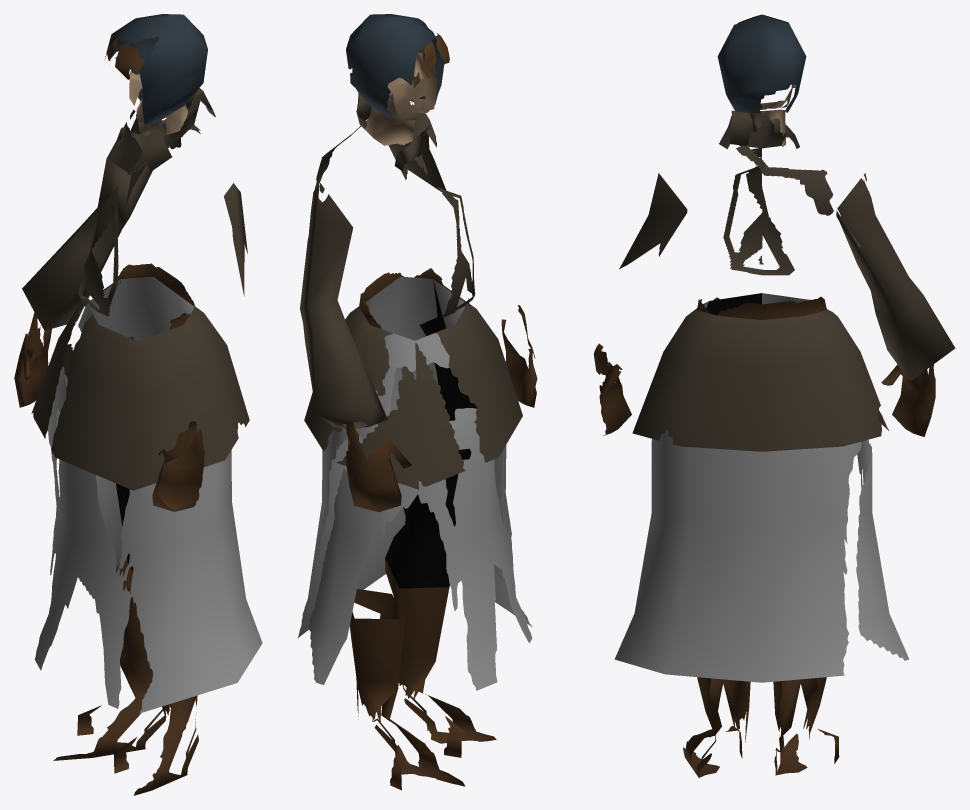
The model's file is Woman2.fbx.
The picture shows the model from 3 angles, left to right: view 1: azimuth 30°, elevation 25°; view 2: azimuth 150°, elevation 25°; view 3: azimuth 270°, elevation 25°; orthographic projection. The views are drawn at different scales.
Visible parts, largest first — view 1: CH-W-SIMP.001; view 2: CH-W-SIMP.001; view 3: CH-W-SIMP.001.
Boxes of the visible parts, x1,y1,x2,y2 form: CH-W-SIMP.001: [14, 14, 262, 795]; CH-W-SIMP.001: [297, 14, 537, 790]; CH-W-SIMP.001: [593, 14, 955, 778].
Size of the model in its own units: 90.57 by 359 by 166.
Materials: 1 (1 with a texture image).
